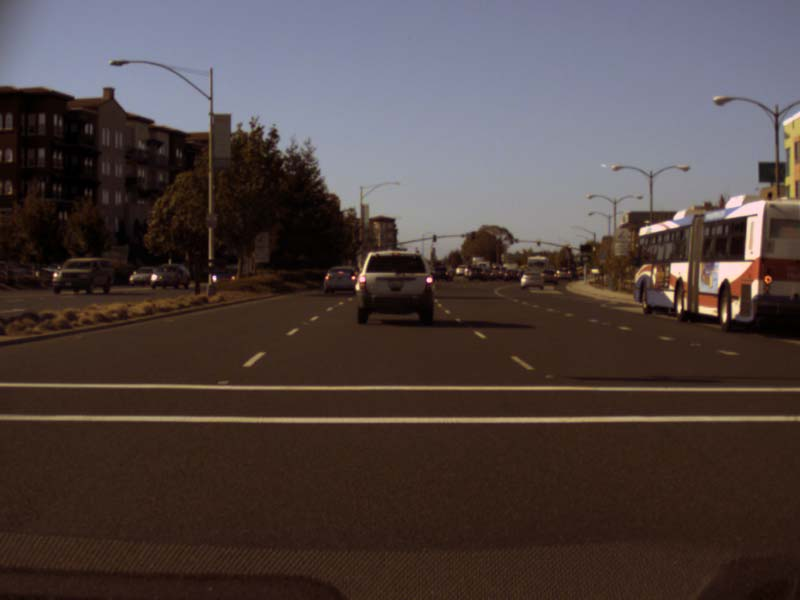Red: (509, 237, 513, 244), (536, 238, 540, 245), (567, 245, 570, 251)
